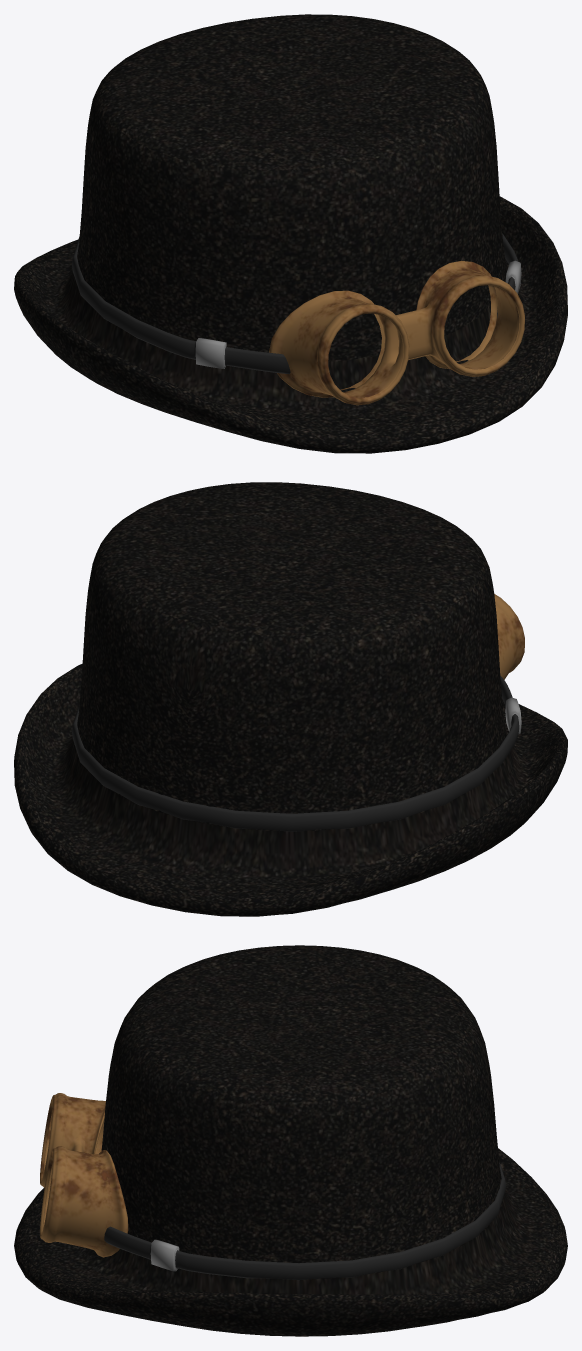
The model's file is steampunk_hat.glb.
The picture shows the model from 3 angles, top to bottom: view 1: azimuth 30°, elevation 25°; view 2: azimuth 150°, elevation 25°; view 3: azimuth 270°, elevation 25°; orthographic projection. The views are drawn at different scales.
Visible parts, largest first — view 1: Hat.002_0; view 2: Hat.002_0; view 3: Hat.002_0.
Part boxes in pixels (x1,y1,x2,y2): Hat.002_0: (14, 14, 567, 453); Hat.002_0: (14, 482, 567, 916); Hat.002_0: (14, 945, 567, 1336).
Bounding box in the file's own units: 0.4147 × 0.2139 × 0.4491.
1 material, 1 textured.
